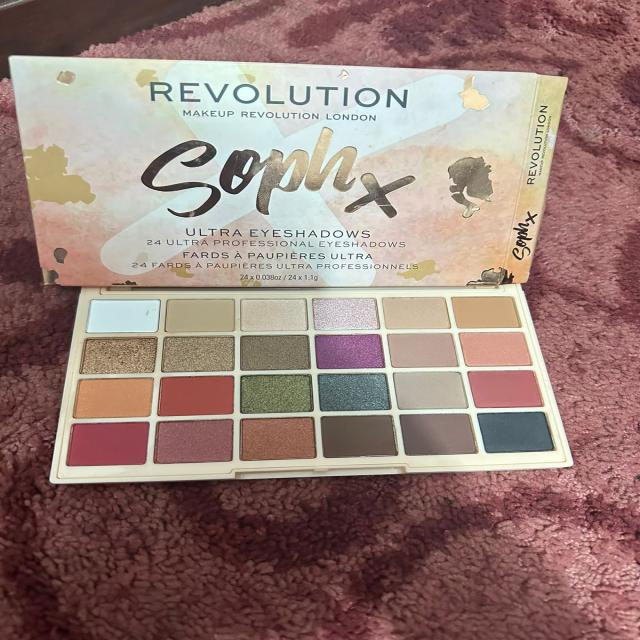eye shade: (15, 271, 596, 499)
